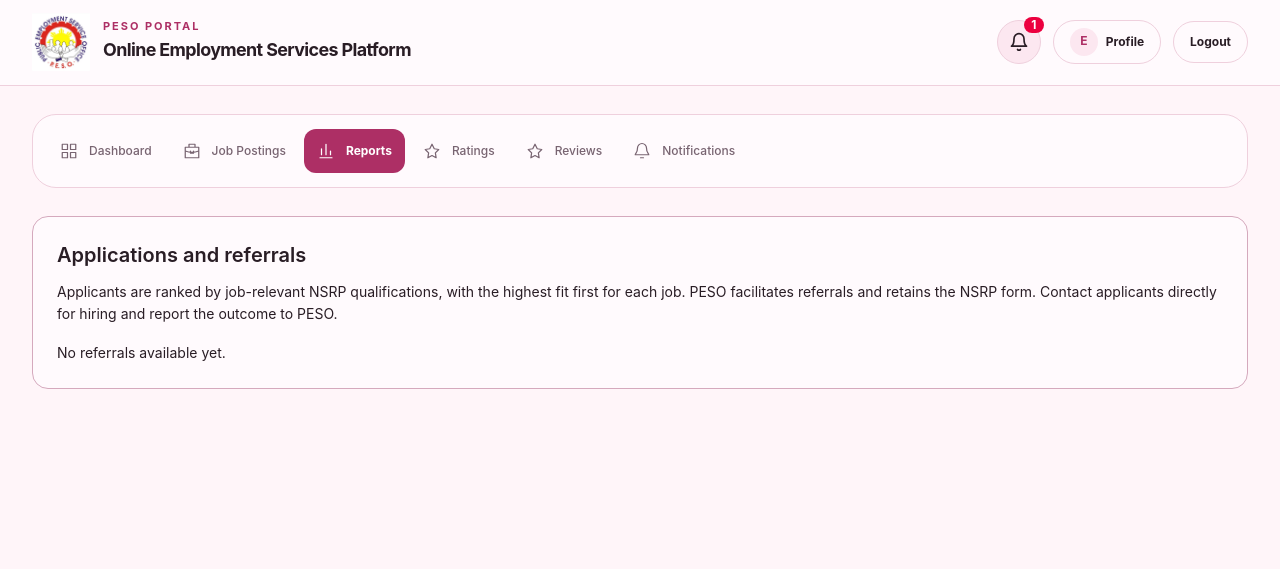
it: notification destinations › supports opening the link in a new tab and consumes the URL target after navigation
Expected: the heading "Applications and referrals" is shown, [57,243,306,267]
Click the button "Notifications" at (684, 151), box [620,129,748,173]
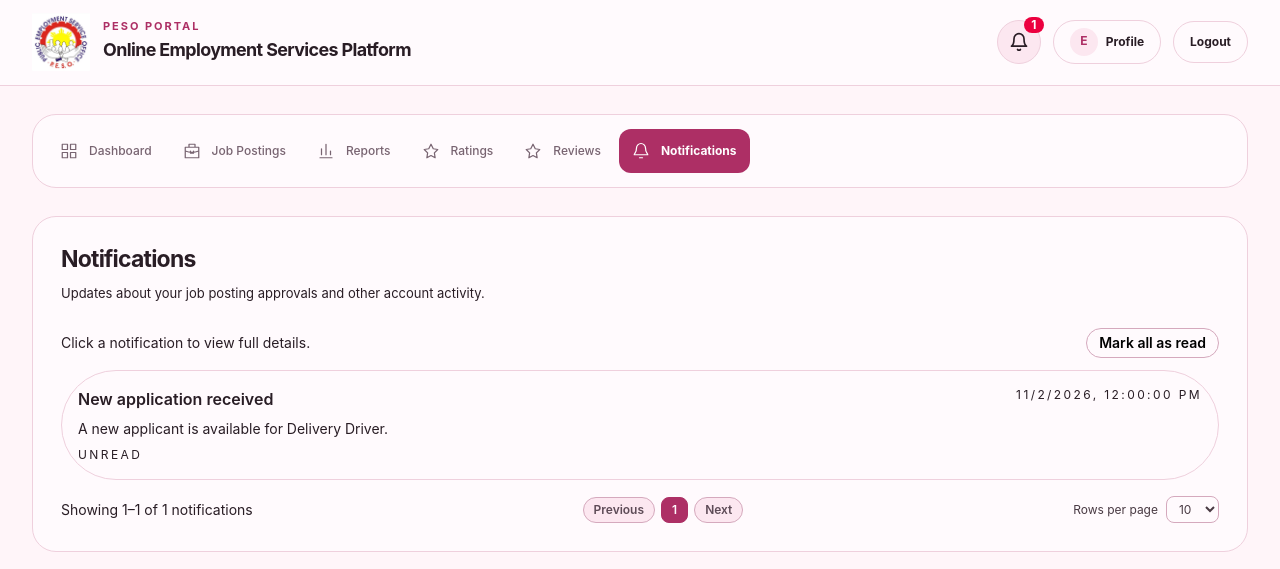
Now the heading "Notifications" is shown, box [61,245,196,273]
